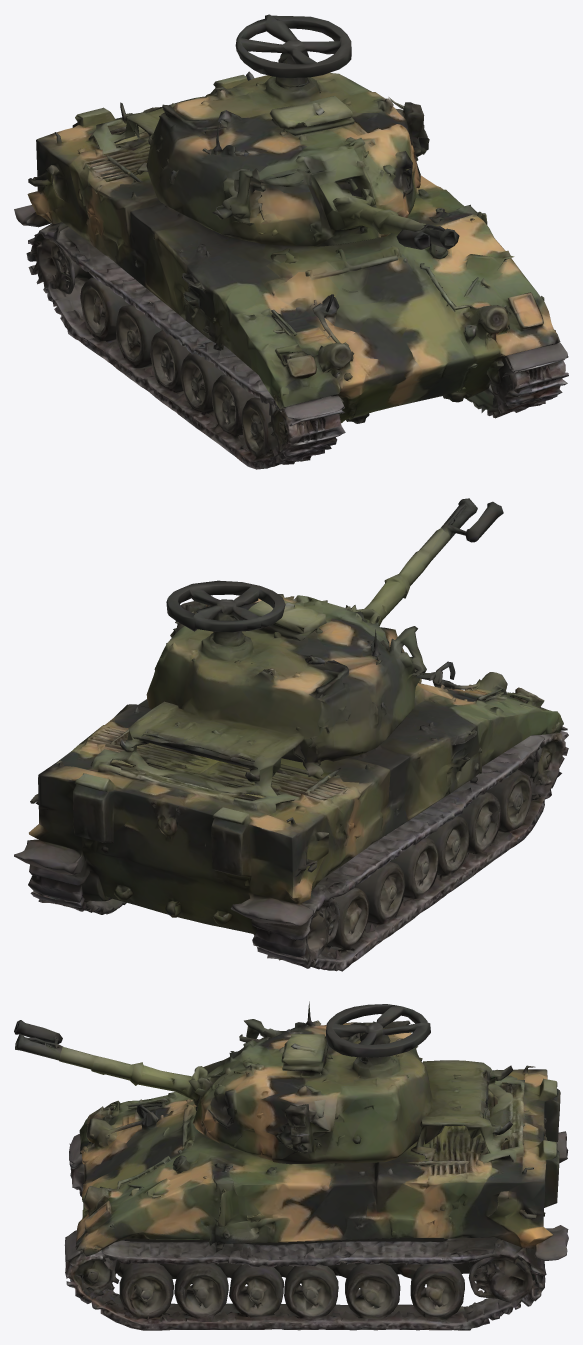
The picture shows the model from 3 angles, top to bottom: view 1: azimuth 30°, elevation 25°; view 2: azimuth 150°, elevation 25°; view 3: azimuth 270°, elevation 25°; orthographic projection. The views are drawn at different scales.
Visible parts, largest first — view 1: tripo_node_4e6f37d7-b6b1-4980-a33a-c42ba8137465; view 2: tripo_node_4e6f37d7-b6b1-4980-a33a-c42ba8137465; view 3: tripo_node_4e6f37d7-b6b1-4980-a33a-c42ba8137465.
Part boxes in pixels (box(x1,y1,x2,y2)): tripo_node_4e6f37d7-b6b1-4980-a33a-c42ba8137465: box(14, 14, 568, 469); tripo_node_4e6f37d7-b6b1-4980-a33a-c42ba8137465: box(14, 498, 568, 971); tripo_node_4e6f37d7-b6b1-4980-a33a-c42ba8137465: box(14, 1001, 568, 1330).
Size of the model in its own units: 0.5366 by 0.5299 by 1.
1 material, 1 textured.
